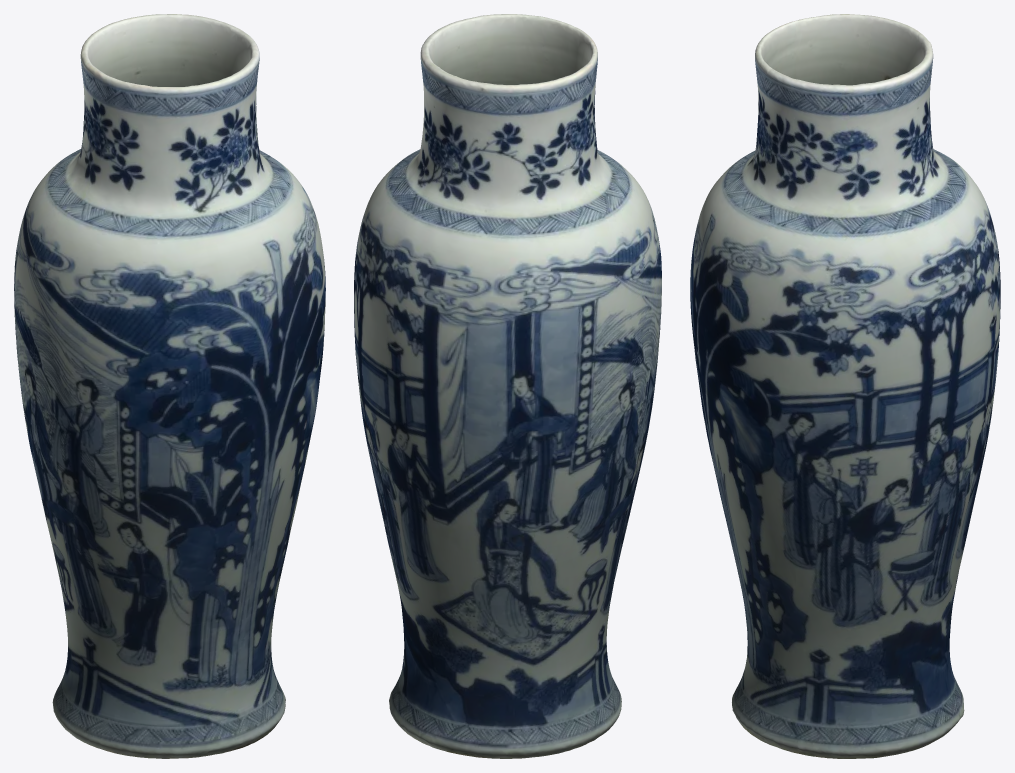
Rendered from baluster_vase_from_a_five-piece_garniture.glb.
3 views of the same model, side by side, from view 1: azimuth 30°, elevation 25°; view 2: azimuth 150°, elevation 25°; view 3: azimuth 270°, elevation 25° (orthographic).
Parts seen in each view (by area): view 1: Object_4; view 2: Object_4; view 3: Object_4.
Boxes of the visible parts, box(x1,y1,x2,y2) form: Object_4: box(14, 14, 325, 758); Object_4: box(354, 14, 661, 758); Object_4: box(690, 14, 1000, 758).
Size of the model in its own units: 0.1708 by 0.4053 by 0.1718.
1 material, 1 textured.
